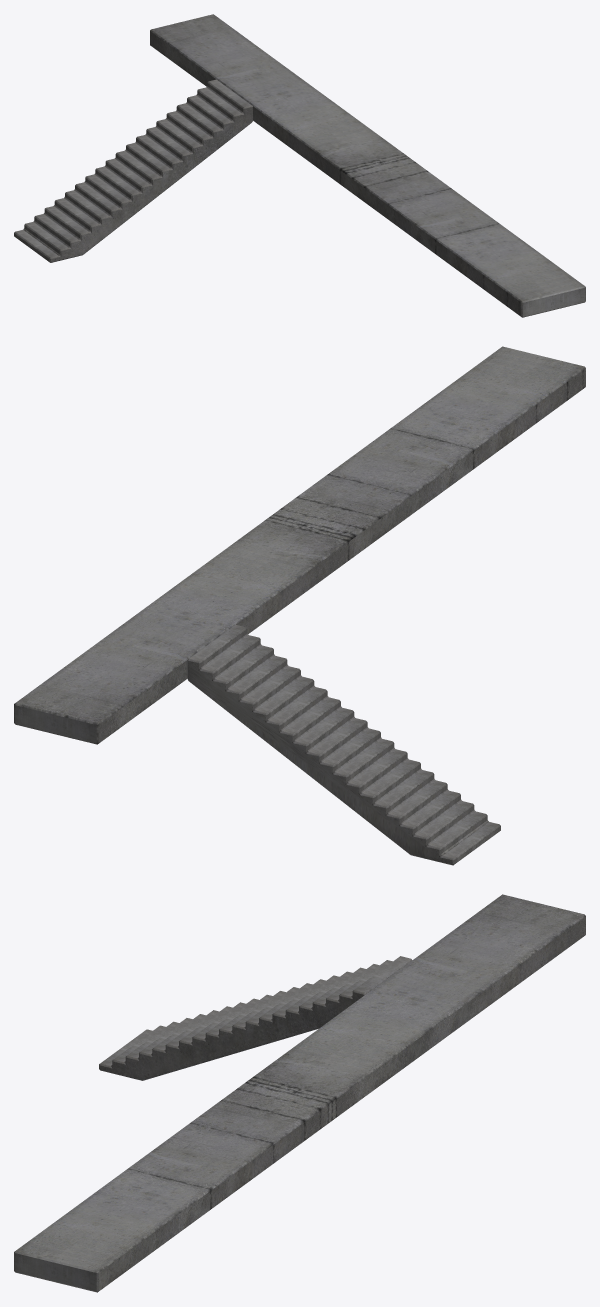
File: SM_GlassPalace_00_05.fbx
3 renders of one model, top to bottom at view 1: azimuth 30°, elevation 25°; view 2: azimuth 150°, elevation 25°; view 3: azimuth 330°, elevation 25°, orthographic. The views are drawn at different scales.
Parts seen in each view (by area): view 1: SM_GlassPalace_00_05; view 2: SM_GlassPalace_00_05; view 3: SM_GlassPalace_00_05.
Part boxes in pixels (bbox=[...]): SM_GlassPalace_00_05: bbox=[14, 14, 585, 317]; SM_GlassPalace_00_05: bbox=[14, 346, 585, 865]; SM_GlassPalace_00_05: bbox=[14, 894, 585, 1292].
Bounding box in the file's own units: 1294 × 500 × 3114.
